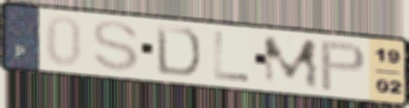0: (42, 13, 86, 69)
D: (153, 23, 203, 79)
L: (211, 29, 251, 84)
M: (260, 35, 323, 90)
P: (318, 39, 368, 93)
S: (89, 18, 143, 74)
